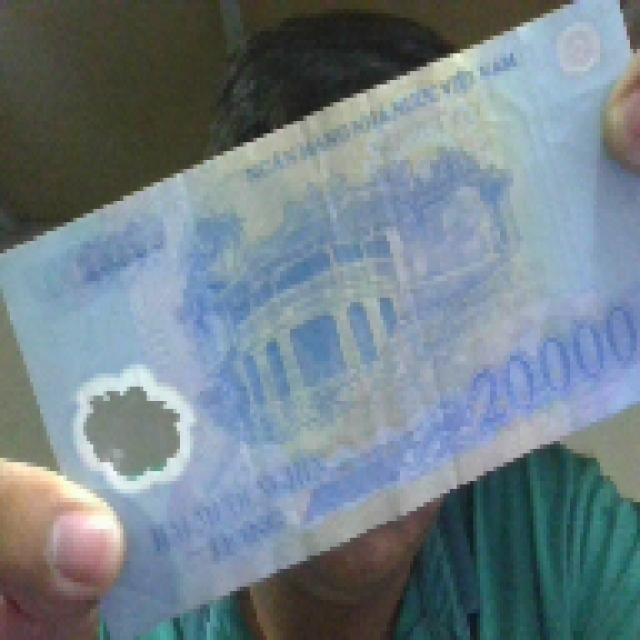20 000 VND: (0, 0, 637, 636)
